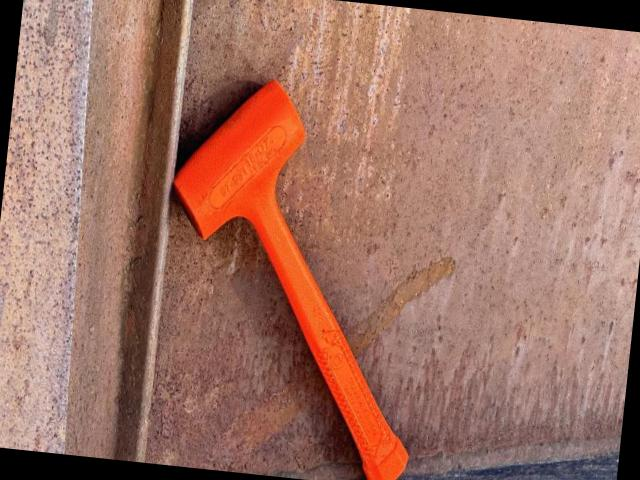hammer: (144, 69, 446, 480)
